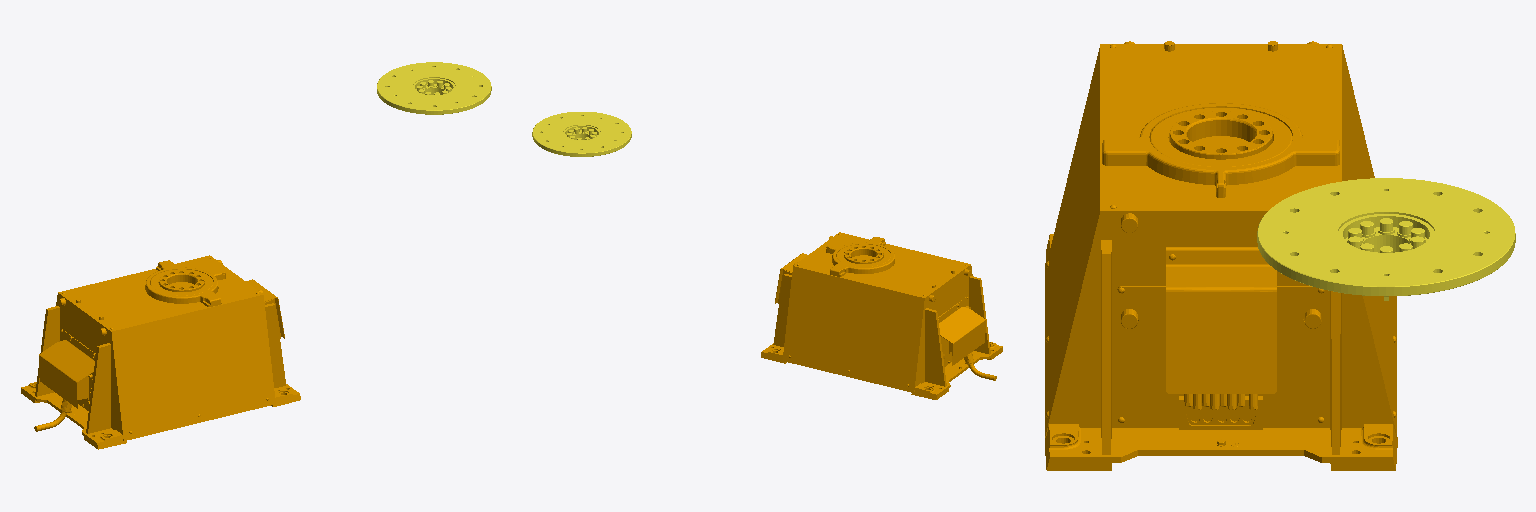
URDF robot description (Irbpb_500_D1450_IRC5_rev02_CAD):
<?xml version="1.0" ?>
<robot name="Irbpb_500_D1450_IRC5_rev02_CAD">

<link name="base_link">
  <inertial>
    <origin xyz="1.2220238746065277 0.2878722701066042 0.21441615376360967" rpy="0 0 0"/>
    <mass value="1310.5292686537296"/>
    <inertia ixx="51.101771" iyy="82.104533" izz="91.002161" ixy="-0.063507" iyz="-0.013079" ixz="-0.950218"/>
  </inertial>
  <visual>
    <origin xyz="0 0 0" rpy="0 0 0"/>
    <geometry>
      <mesh filename="meshes/base_link.stl" scale="0.001 0.001 0.001"/>
    </geometry>
  </visual>
  <collision>
    <origin xyz="0 0 0" rpy="0 0 0"/>
    <geometry>
      <mesh filename="meshes/base_link.stl" scale="0.001 0.001 0.001"/>
    </geometry>
  </collision>
</link>

<link name="Irbpb_500_D1450_IRC5_rev02_Turntable500B_CAD_1">
  <inertial>
    <origin xyz="0.00012299746507782316 0.001527973886110645 0.5577259057600324" rpy="0 0 0"/>
    <mass value="1938.1969728782942"/>
    <inertia ixx="823.496369" iyy="230.871329" izz="703.128226" ixy="-56.14157" iyz="1.351869" ixz="0.102413"/>
  </inertial>
  <visual>
    <origin xyz="-1.31 -0.287995 -0.481" rpy="0 0 0"/>
    <geometry>
      <mesh filename="meshes/Irbpb_500_D1450_IRC5_rev02_Turntable500B_CAD_1.stl" scale="0.001 0.001 0.001"/>
    </geometry>
  </visual>
  <collision>
    <origin xyz="-1.31 -0.287995 -0.481" rpy="0 0 0"/>
    <geometry>
      <mesh filename="meshes/Irbpb_500_D1450_IRC5_rev02_Turntable500B_CAD_1.stl" scale="0.001 0.001 0.001"/>
    </geometry>
  </collision>
</link>

<link name="Irbpb_500_D1450_IRC5_rev02_arm500AB_CAD_1">
  <inertial>
    <origin xyz="0.7125104505240922 0.0032798500812573073 -0.3647933186231007" rpy="0 0 0"/>
    <mass value="519.3032645784656"/>
    <inertia ixx="22.626406" iyy="78.303916" izz="66.64645" ixy="-0.043181" iyz="0.336" ixz="25.248478"/>
  </inertial>
  <visual>
    <origin xyz="-1.673 -0.575995 -1.1" rpy="0 0 0"/>
    <geometry>
      <mesh filename="meshes/Irbpb_500_D1450_IRC5_rev02_arm500AB_CAD_1.stl" scale="0.001 0.001 0.001"/>
    </geometry>
  </visual>
  <collision>
    <origin xyz="-1.673 -0.575995 -1.1" rpy="0 0 0"/>
    <geometry>
      <mesh filename="meshes/Irbpb_500_D1450_IRC5_rev02_arm500AB_CAD_1.stl" scale="0.001 0.001 0.001"/>
    </geometry>
  </collision>
</link>

<link name="Irbpb_500_D1450_IRC5_rev02_platter_d450_CAD_1">
  <inertial>
    <origin xyz="0.001112486430053572 4.393370914845818e-07 0.044867865424758735" rpy="0 0 0"/>
    <mass value="21.25030383337227"/>
    <inertia ixx="0.228504" iyy="0.231342" izz="0.446816" ixy="0.0" iyz="-0.0" ixz="0.000583"/>
  </inertial>
  <visual>
    <origin xyz="-2.62 -0.57599 -0.8365" rpy="0 0 0"/>
    <geometry>
      <mesh filename="meshes/Irbpb_500_D1450_IRC5_rev02_platter_d450_CAD_1.stl" scale="0.001 0.001 0.001"/>
    </geometry>
  </visual>
  <collision>
    <origin xyz="-2.62 -0.57599 -0.8365" rpy="0 0 0"/>
    <geometry>
      <mesh filename="meshes/Irbpb_500_D1450_IRC5_rev02_platter_d450_CAD_1.stl" scale="0.001 0.001 0.001"/>
    </geometry>
  </collision>
</link>

<link name="Irbpb_500_D1450_IRC5_rev02_arm500AB_CAD_2">
  <inertial>
    <origin xyz="-0.7125104505241117 -0.003279410744182416 -0.3647933186230826" rpy="0 0 0"/>
    <mass value="519.3032645784656"/>
    <inertia ixx="22.626406" iyy="78.303916" izz="66.64645" ixy="-0.043181" iyz="-0.336" ixz="-25.248478"/>
  </inertial>
  <visual>
    <origin xyz="-0.947 5e-06 -1.1" rpy="0 0 0"/>
    <geometry>
      <mesh filename="meshes/Irbpb_500_D1450_IRC5_rev02_arm500AB_CAD_2.stl" scale="0.001 0.001 0.001"/>
    </geometry>
  </visual>
  <collision>
    <origin xyz="-0.947 5e-06 -1.1" rpy="0 0 0"/>
    <geometry>
      <mesh filename="meshes/Irbpb_500_D1450_IRC5_rev02_arm500AB_CAD_2.stl" scale="0.001 0.001 0.001"/>
    </geometry>
  </collision>
</link>

<link name="Irbpb_500_D1450_IRC5_rev02_platter_d450_CAD_2">
  <inertial>
    <origin xyz="-0.0011124864300715704 -1.4891614808044477e-15 0.043367865424779994" rpy="0 0 0"/>
    <mass value="21.25030383337227"/>
    <inertia ixx="0.228504" iyy="0.231342" izz="0.446816" ixy="0.0" iyz="0.0" ixz="-0.000583"/>
  </inertial>
  <visual>
    <origin xyz="0.0 0.0 -0.838" rpy="0 0 0"/>
    <geometry>
      <mesh filename="meshes/Irbpb_500_D1450_IRC5_rev02_platter_d450_CAD_2.stl" scale="0.001 0.001 0.001"/>
    </geometry>
  </visual>
  <collision>
    <origin xyz="0.0 0.0 -0.838" rpy="0 0 0"/>
    <geometry>
      <mesh filename="meshes/Irbpb_500_D1450_IRC5_rev02_platter_d450_CAD_2.stl" scale="0.001 0.001 0.001"/>
    </geometry>
  </collision>
</link>

<joint name="j1" type="continuous">
  <origin xyz="1.31 0.287995 0.481" rpy="0 0 0"/>
  <parent link="base_link"/>
  <child link="Irbpb_500_D1450_IRC5_rev02_Turntable500B_CAD_1"/>
  <axis xyz="-0.0 -0.0 -1.0"/>
</joint>

<joint name="j2" type="continuous">
  <origin xyz="0.363 0.288 0.619" rpy="0 0 0"/>
  <parent link="Irbpb_500_D1450_IRC5_rev02_Turntable500B_CAD_1"/>
  <child link="Irbpb_500_D1450_IRC5_rev02_arm500AB_CAD_1"/>
  <axis xyz="1.0 0.0 0.0"/>
</joint>

<joint name="j3" type="continuous">
  <origin xyz="0.947 -5e-06 -0.2635" rpy="0 0 0"/>
  <parent link="Irbpb_500_D1450_IRC5_rev02_arm500AB_CAD_1"/>
  <child link="Irbpb_500_D1450_IRC5_rev02_platter_d450_CAD_1"/>
  <axis xyz="-0.0 0.0 1.0"/>
</joint>

<joint name="j4" type="continuous">
  <origin xyz="-0.363 -0.288 0.619" rpy="0 0 0"/>
  <parent link="Irbpb_500_D1450_IRC5_rev02_Turntable500B_CAD_1"/>
  <child link="Irbpb_500_D1450_IRC5_rev02_arm500AB_CAD_2"/>
  <axis xyz="-1.0 -0.0 0.0"/>
</joint>

<joint name="j5" type="continuous">
  <origin xyz="-0.947 5e-06 -0.262" rpy="0 0 0"/>
  <parent link="Irbpb_500_D1450_IRC5_rev02_arm500AB_CAD_2"/>
  <child link="Irbpb_500_D1450_IRC5_rev02_platter_d450_CAD_2"/>
  <axis xyz="-0.0 0.0 -1.0"/>
</joint>

</robot>

--- What the picture shows (computed from the rendered views, not written in the file) ---
The picture shows the robot from 3 angles, left to right: view 1: azimuth 30°, elevation 25°; view 2: azimuth 150°, elevation 25°; view 3: azimuth 270°, elevation 25°; orthographic projection.
Robot: Irbpb_500_D1450_IRC5_rev02_CAD — 6 links, 5 joints (5 continuous); root link base_link; default pose: all joints at 0.
Visible links, largest first — view 1: base_link, Irbpb_500_D1450_IRC5_rev02_platter_d450_CAD_1; view 2: base_link, Irbpb_500_D1450_IRC5_rev02_platter_d450_CAD_1; view 3: base_link, Irbpb_500_D1450_IRC5_rev02_platter_d450_CAD_1.
Boxes of the visible links, x1,y1,x2,y2 form: base_link: (21,255,300,449); Irbpb_500_D1450_IRC5_rev02_platter_d450_CAD_1: (377,62,491,114); base_link: (761,232,1002,399); Irbpb_500_D1450_IRC5_rev02_platter_d450_CAD_1: (532,112,631,156); base_link: (1045,41,1397,470); Irbpb_500_D1450_IRC5_rev02_platter_d450_CAD_1: (1257,178,1515,300).
Bounding box of the posed robot: 2.21 × 0.8212 × 0.9065 m (x, y, z).
2 mesh visuals loaded from 6 distinct referenced files (2 binary STL); not drawn: 4 (reference not matched to a file when rendering).